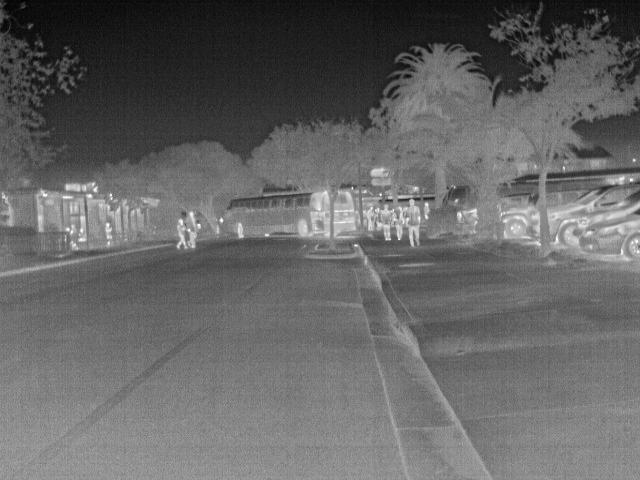car: (545, 180, 638, 248), (578, 207, 637, 263), (497, 202, 532, 242), (454, 207, 476, 234), (526, 212, 540, 245)
person: (402, 198, 421, 246), (377, 203, 395, 241), (185, 209, 201, 249), (176, 218, 190, 252), (365, 206, 378, 232), (104, 219, 117, 240), (74, 227, 88, 244)
